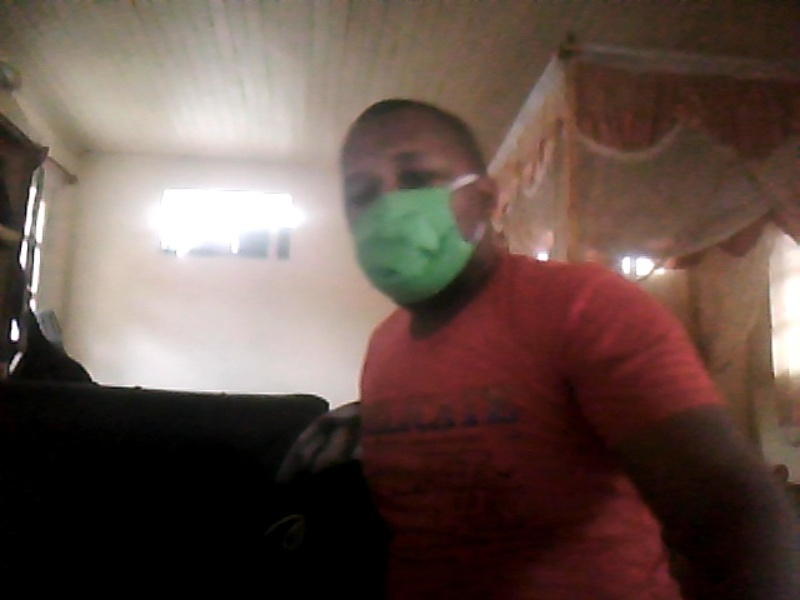ManaoArotava: (321, 108, 499, 316)
